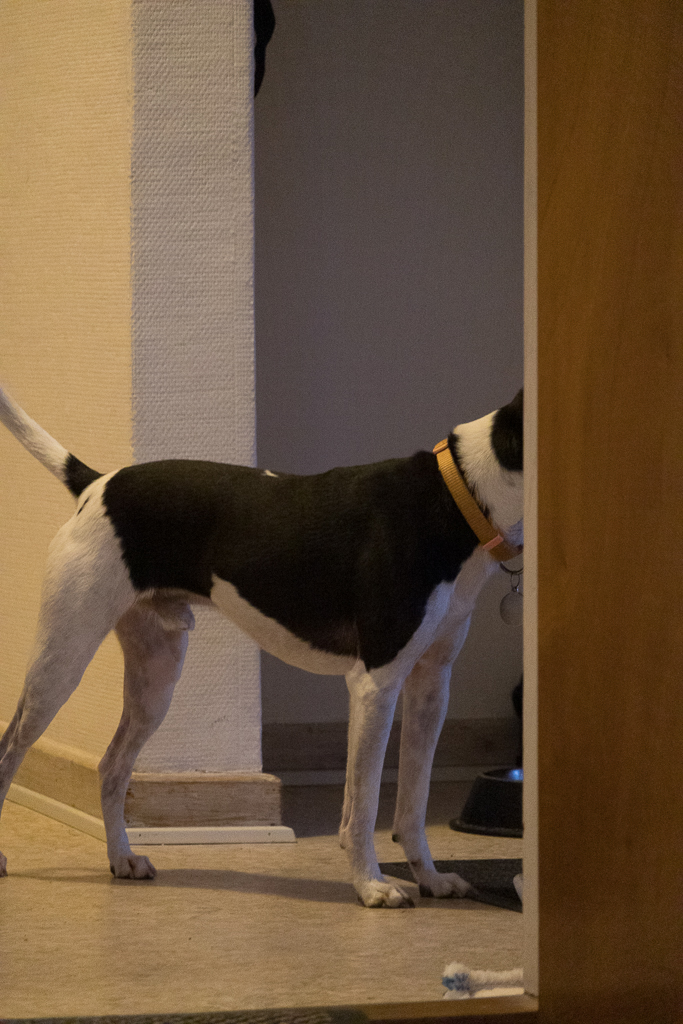Dog: (0, 373, 571, 915)
